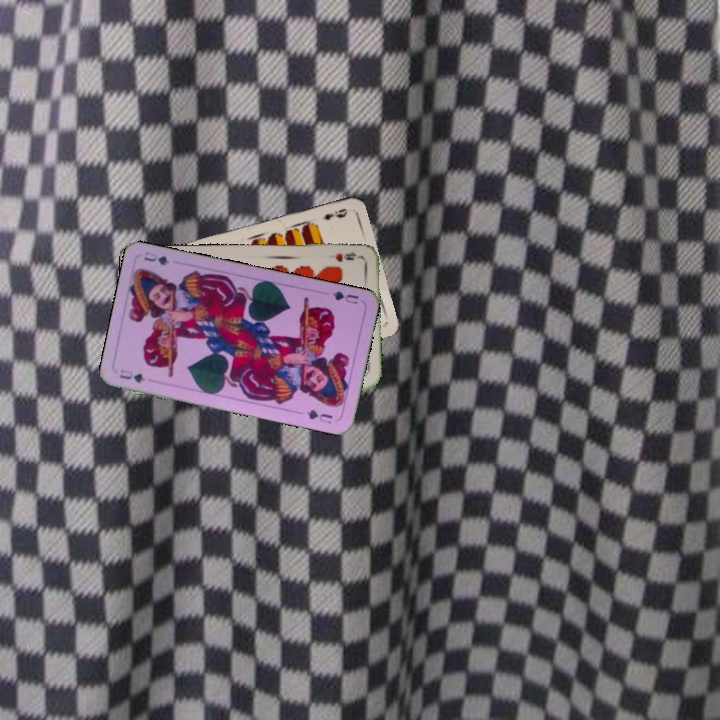E9: (319, 204, 351, 223)
GU: (115, 365, 147, 386), (329, 287, 361, 307)
H9: (326, 248, 364, 264)
